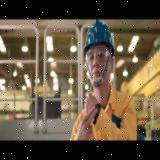Helmet: (84, 19, 115, 60)
